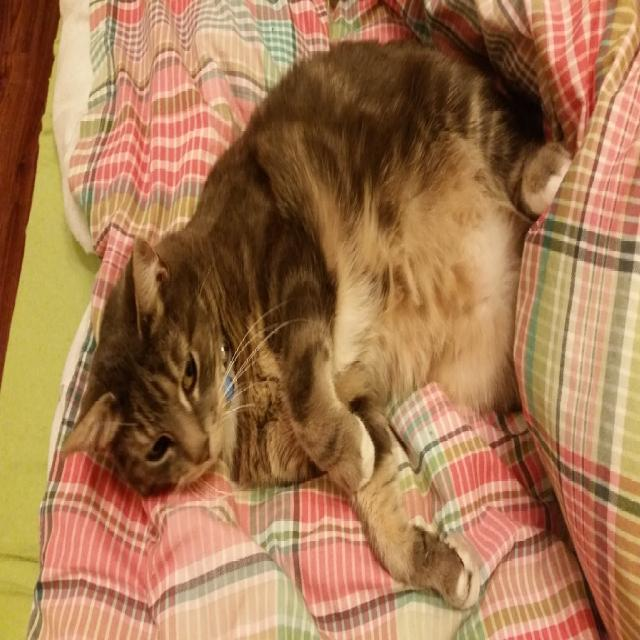Cat: (60, 31, 578, 609)
